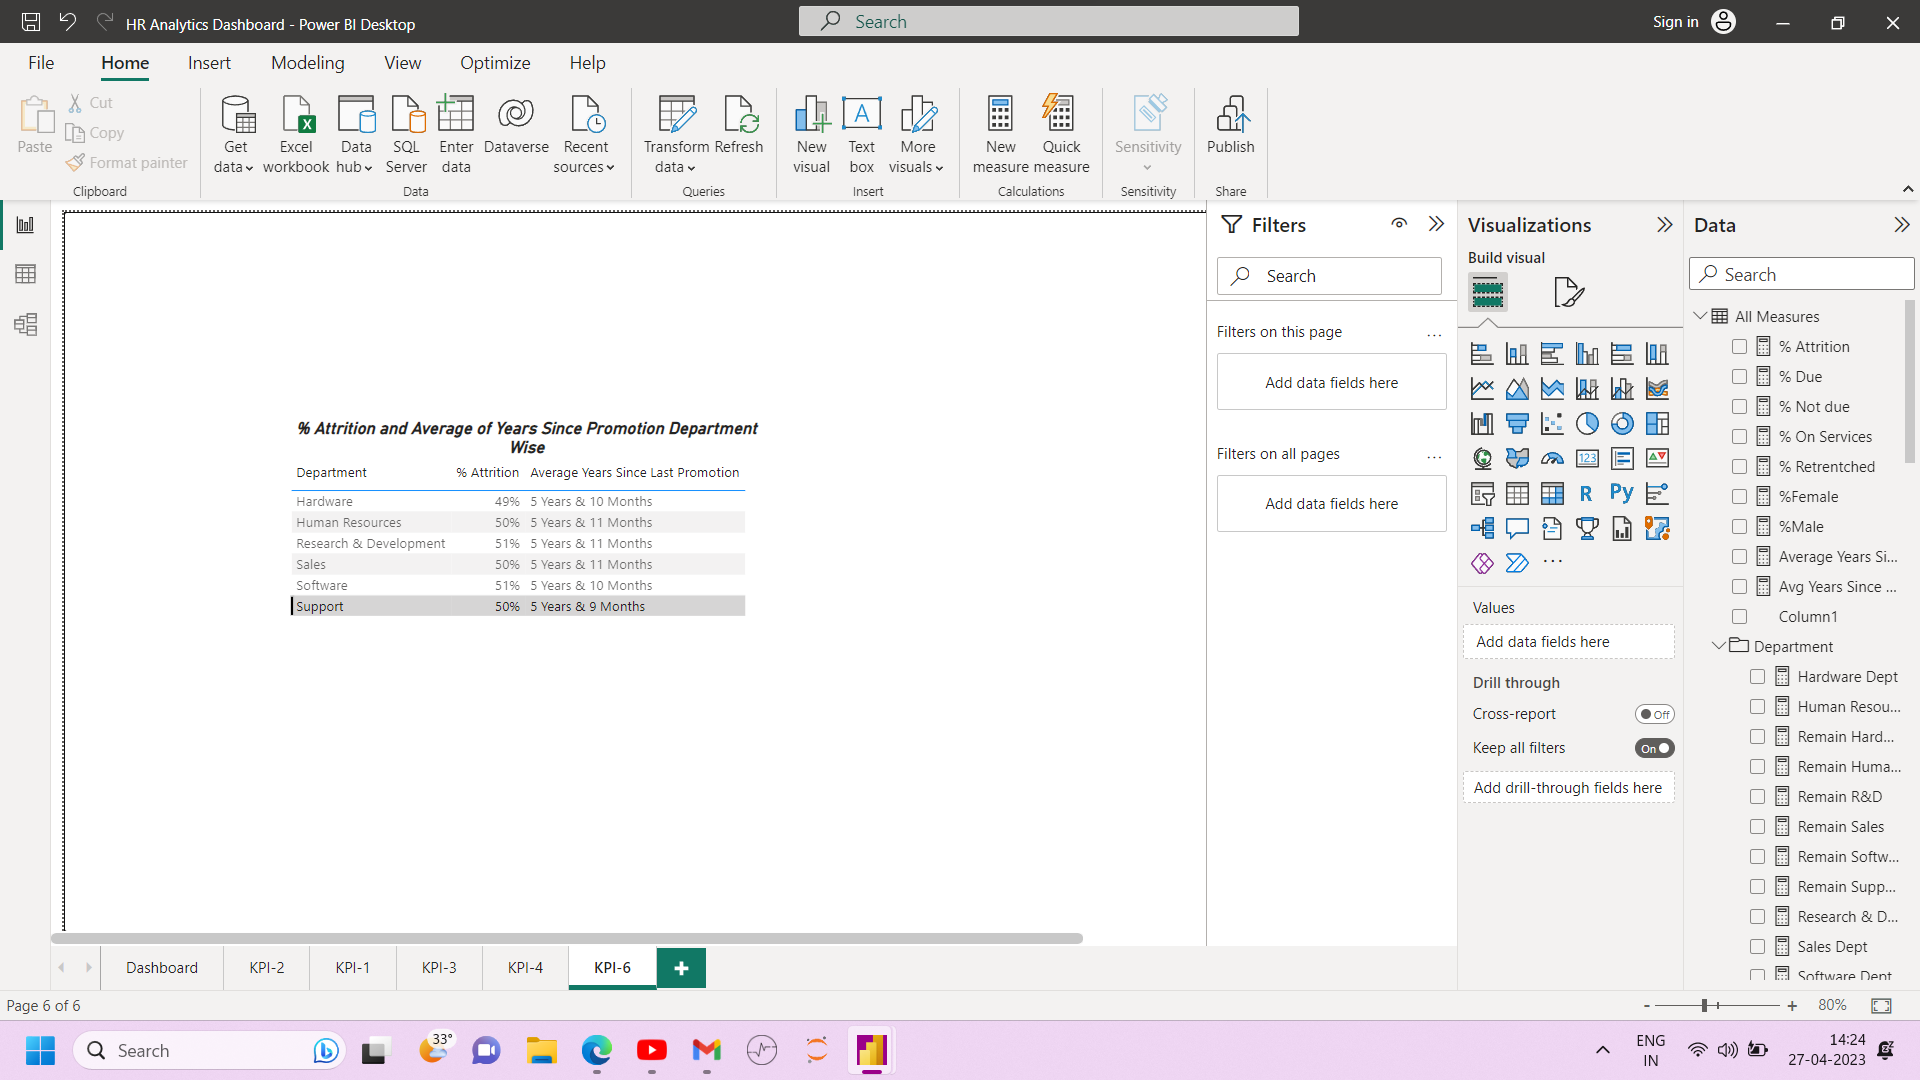

Layout of this report page (visuals, bound fields, positions):
{"tool":"powerbi","page":{"name":"KPI-5","canvas":[1280,720],"ordinal":5},"visuals":[{"type":"tableEx","title":"% Attrition and Average of Years Since Promotion Department Wise","fields":{"Values":["Merge1.Department","All Measures.% Attrition","All Measures.Average Years Since Last Promotion"]},"box":[221.2,206.2,482.5,208.8],"z":0}]}

Visuals, with their boxes on the page's 1280x720 design canvas (x1, y1, x2, y2). These are canvas units, not pixel positions in the 1920x1080 screenshot, which may show the page scaled, cropped or inside an application window:
"% Attrition and Average of Years Since Promotion Department Wise" tableEx: box(221, 206, 704, 415)
